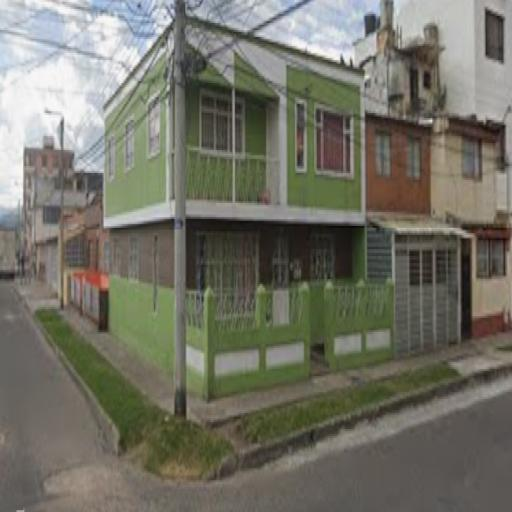poste: (169, 0, 187, 424), (56, 116, 67, 315)
